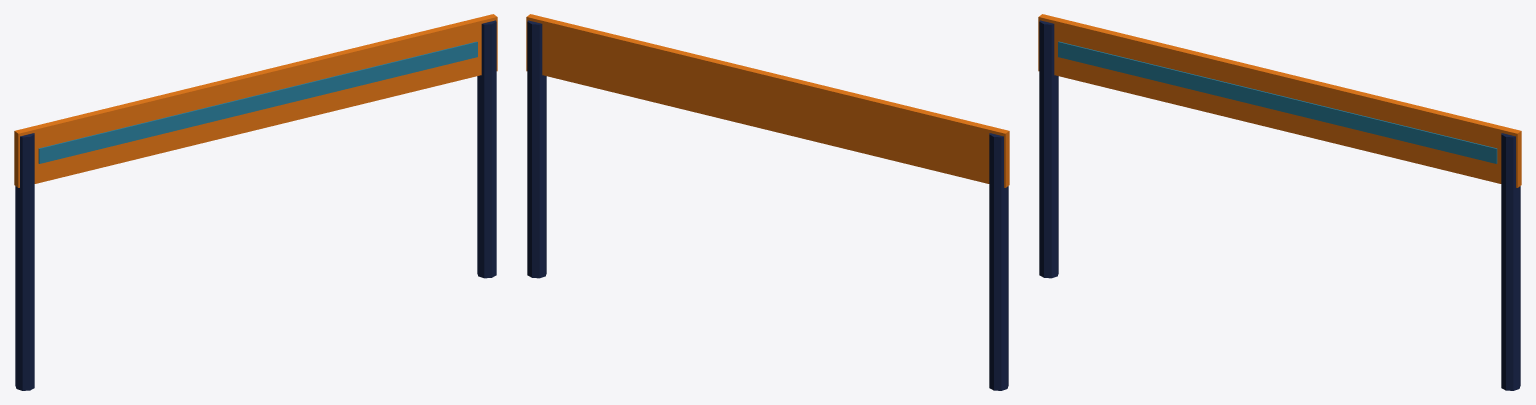
The model's file is start_arch.glb.
3 views of the same model, side by side, from view 1: azimuth 30°, elevation 25°; view 2: azimuth 150°, elevation 25°; view 3: azimuth 330°, elevation 25° (orthographic).
Parts seen in each view (by area): view 1: start_arch; view 2: start_arch; view 3: start_arch.
Part boxes in pixels (x1=…): start_arch: x1=14, y1=14, x2=497, y2=390; start_arch: x1=526, y1=14, x2=1009, y2=390; start_arch: x1=1038, y1=14, x2=1521, y2=390.
Size of the model in its own units: 8.3 by 4.25 by 0.2999.
